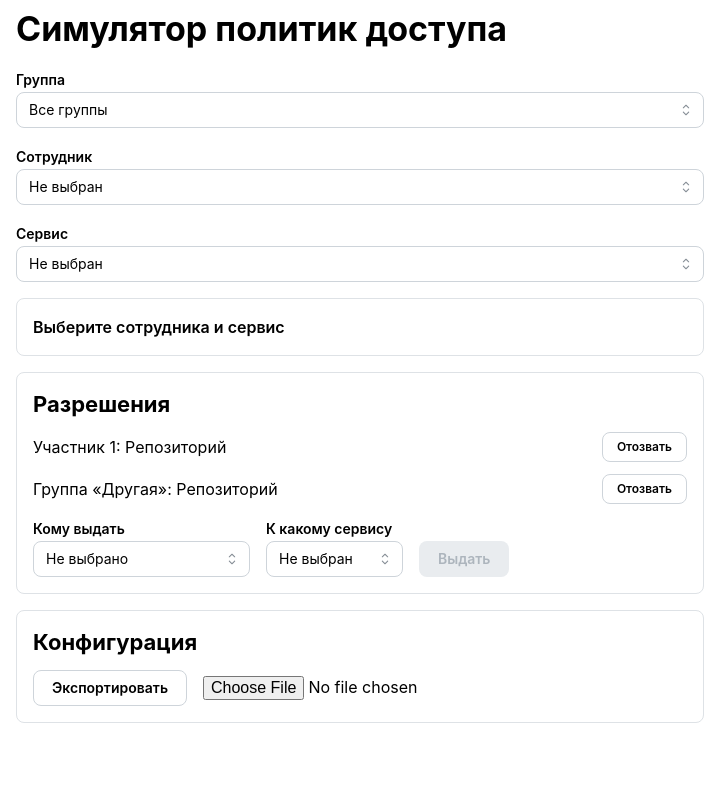
экран расчёта доступа › учитывает прямой доступ и другую группу, сохраняя полный редактор разрешений
Step 1. Select "Северная" in the dropdown labelled "Группа" → (360, 110), box [16, 92, 704, 128]
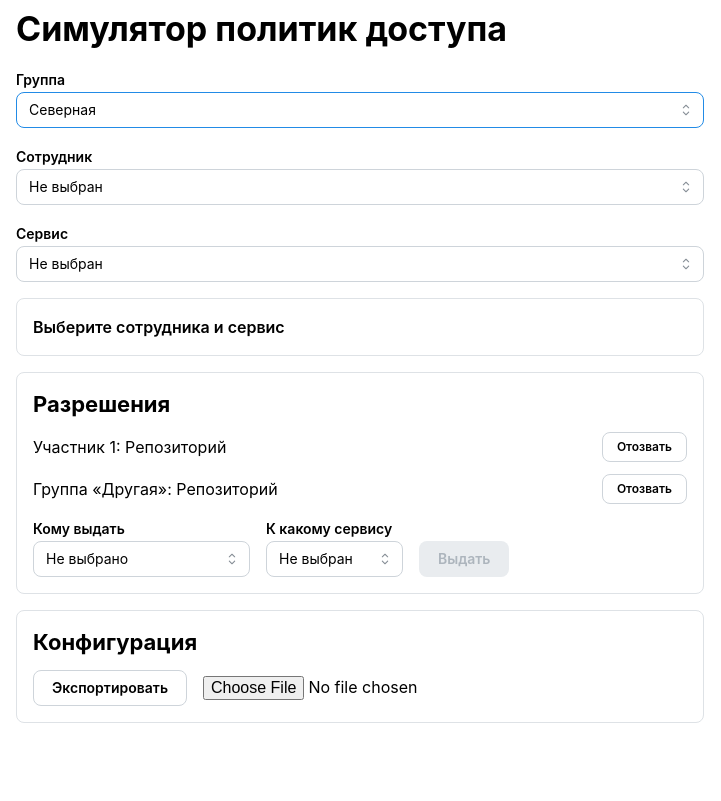
Step 2. Select "Участник 1" in the dropdown with test id "user-select" → (360, 187), box [16, 169, 704, 205]
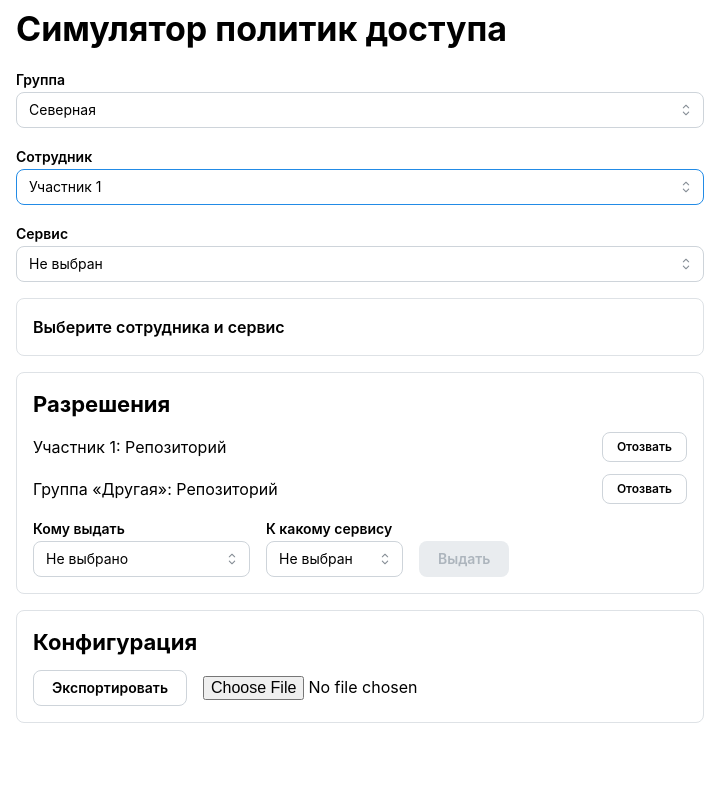
Step 3. Select "Репозиторий" in the dropdown with test id "service-select" → (360, 264), box [16, 246, 704, 282]
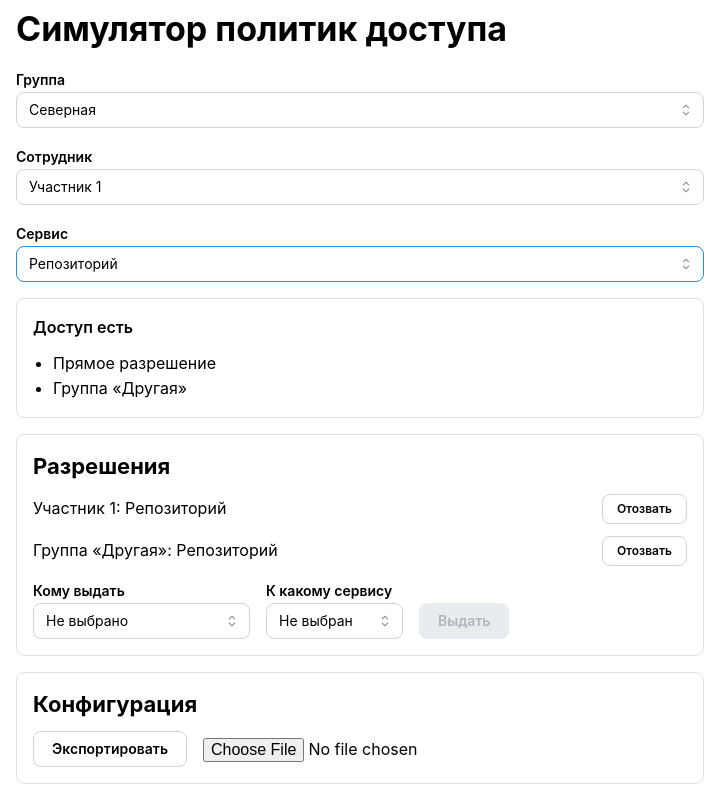
Result: the list with test id "access-sources" shows "Прямое разрешение" at [53, 353, 216, 373]
Result: the list with test id "access-sources" shows "Группа «Другая»" at [53, 378, 187, 398]
